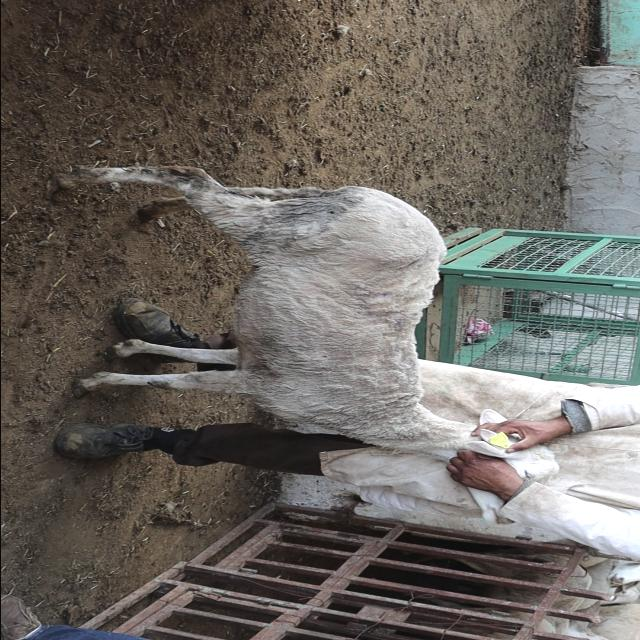Score_1: (57, 166, 558, 479)
